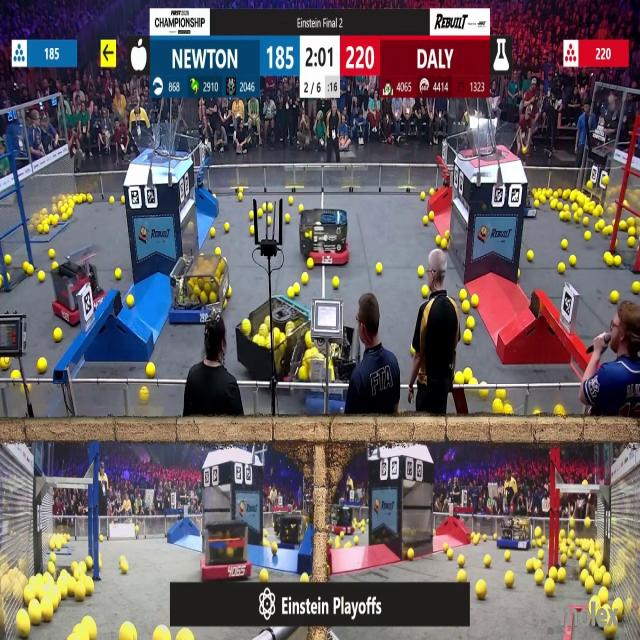ball_airborne: (140, 109, 147, 120), (603, 175, 609, 186), (586, 519, 592, 529), (522, 146, 528, 154), (588, 181, 594, 189)
ball_ground: (20, 618, 31, 640), (122, 624, 137, 640), (156, 627, 171, 640), (477, 582, 487, 601), (42, 607, 53, 624), (604, 625, 616, 640), (504, 571, 513, 587), (544, 581, 553, 597), (75, 587, 85, 601), (599, 589, 608, 604), (454, 372, 464, 385), (146, 362, 155, 376), (534, 570, 543, 584), (586, 580, 595, 594), (242, 319, 251, 333), (38, 357, 46, 372), (87, 582, 95, 597), (458, 568, 467, 581), (0, 357, 9, 370), (493, 399, 502, 412), (558, 568, 566, 582), (262, 568, 270, 582), (90, 626, 98, 640), (55, 328, 63, 341), (555, 407, 564, 418), (466, 317, 474, 329), (610, 290, 618, 302), (632, 282, 640, 294), (484, 555, 492, 567), (602, 573, 610, 585), (594, 572, 602, 584), (120, 561, 127, 574), (526, 559, 533, 572), (496, 389, 505, 399), (546, 567, 554, 578), (464, 332, 471, 344), (470, 294, 477, 306), (27, 265, 34, 277), (462, 302, 469, 314), (464, 367, 471, 379), (579, 570, 586, 582), (47, 562, 54, 574), (628, 238, 636, 248), (11, 368, 19, 378), (408, 550, 415, 561), (418, 267, 425, 278), (458, 556, 465, 567), (460, 289, 467, 300), (4, 254, 11, 265), (604, 252, 611, 263), (88, 558, 95, 569), (564, 211, 571, 222), (422, 285, 428, 297), (308, 259, 314, 271), (288, 286, 294, 298), (504, 407, 512, 416), (615, 256, 622, 266), (38, 272, 45, 282), (331, 278, 338, 288), (303, 572, 310, 582), (482, 389, 489, 399), (578, 558, 585, 568), (570, 255, 576, 266), (115, 269, 121, 280), (377, 264, 383, 275), (128, 295, 134, 306), (559, 264, 565, 275), (303, 274, 309, 285), (528, 250, 534, 261), (293, 283, 299, 294), (551, 201, 558, 210), (606, 225, 613, 234), (534, 560, 541, 569), (562, 240, 568, 250), (48, 248, 54, 258), (504, 552, 510, 562), (442, 239, 448, 249), (584, 216, 590, 226), (561, 555, 567, 565), (560, 211, 566, 221), (621, 220, 627, 230), (51, 216, 57, 226), (448, 551, 454, 560), (268, 216, 274, 225), (435, 237, 441, 246), (537, 551, 543, 560), (88, 193, 94, 202), (629, 226, 635, 235), (67, 208, 73, 217), (573, 214, 579, 223), (560, 543, 566, 552), (250, 224, 255, 234), (423, 215, 428, 225), (273, 542, 278, 552), (444, 542, 450, 550), (420, 191, 426, 199), (284, 214, 290, 222), (256, 210, 262, 218), (558, 204, 564, 212), (238, 192, 244, 200), (43, 224, 49, 232), (445, 231, 451, 239), (595, 222, 601, 230), (534, 528, 540, 536), (428, 212, 434, 220), (554, 189, 560, 197), (49, 554, 55, 562), (539, 194, 545, 202), (586, 232, 591, 241), (249, 211, 254, 220), (429, 188, 435, 195), (571, 205, 577, 212), (346, 541, 352, 548), (110, 198, 116, 205), (264, 539, 270, 546), (51, 264, 56, 272), (211, 230, 216, 238), (269, 204, 274, 212), (288, 198, 293, 206), (227, 288, 231, 298), (534, 200, 539, 208), (532, 539, 537, 547), (471, 378, 476, 386), (224, 222, 228, 231), (492, 534, 498, 540), (215, 248, 220, 255), (298, 205, 302, 213), (355, 536, 359, 544), (337, 540, 341, 548), (568, 551, 572, 559), (120, 198, 124, 205), (0, 275, 4, 282), (472, 538, 476, 544), (100, 535, 104, 541), (484, 534, 488, 540), (342, 535, 346, 541)
goal: (464, 122, 522, 160), (128, 130, 186, 160)
robot_blue: (295, 335, 359, 412), (170, 255, 231, 324), (500, 515, 533, 550), (274, 512, 306, 546)
robot_red: (241, 299, 310, 381), (201, 520, 251, 580), (52, 267, 100, 328), (298, 208, 349, 265), (331, 506, 355, 533)
